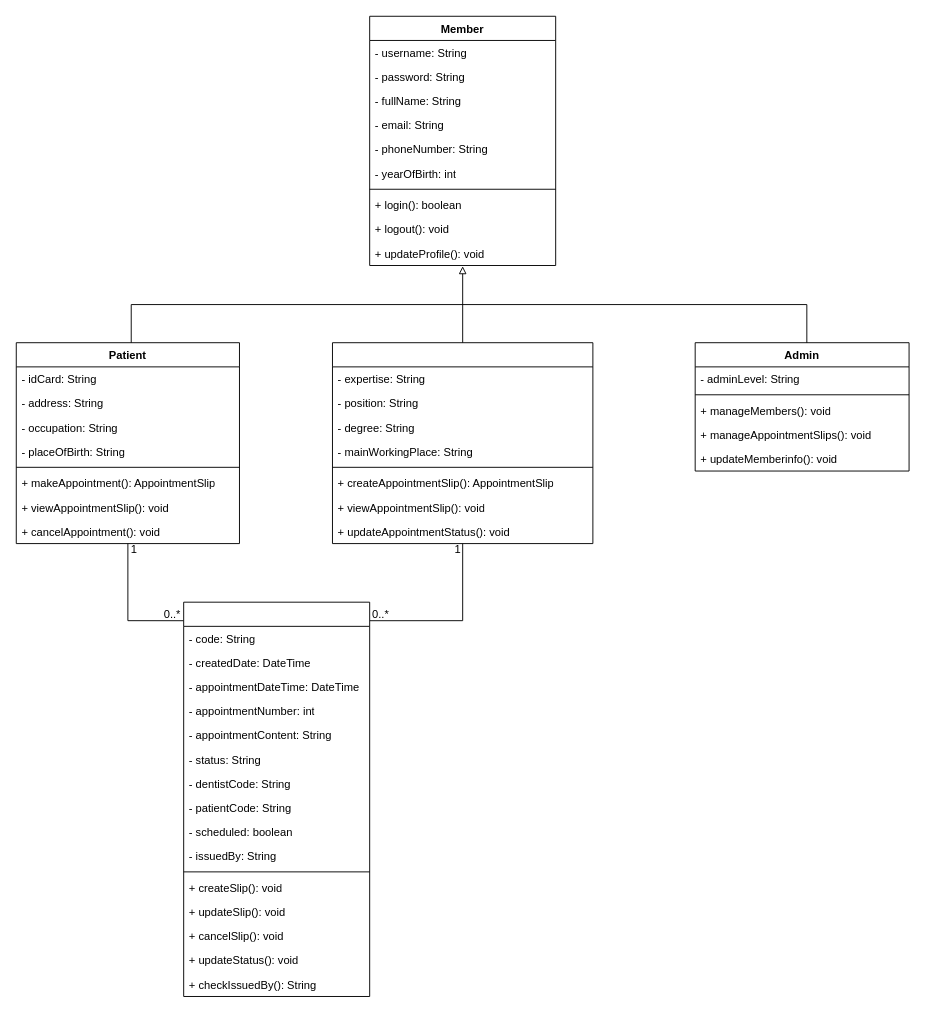
Image size: 925x1016. Some labels were removed from this diagram. Each missing label, with the box of its shape:
AppointmentSlip: (183, 601, 370, 996)
Dentist: (332, 342, 593, 544)
